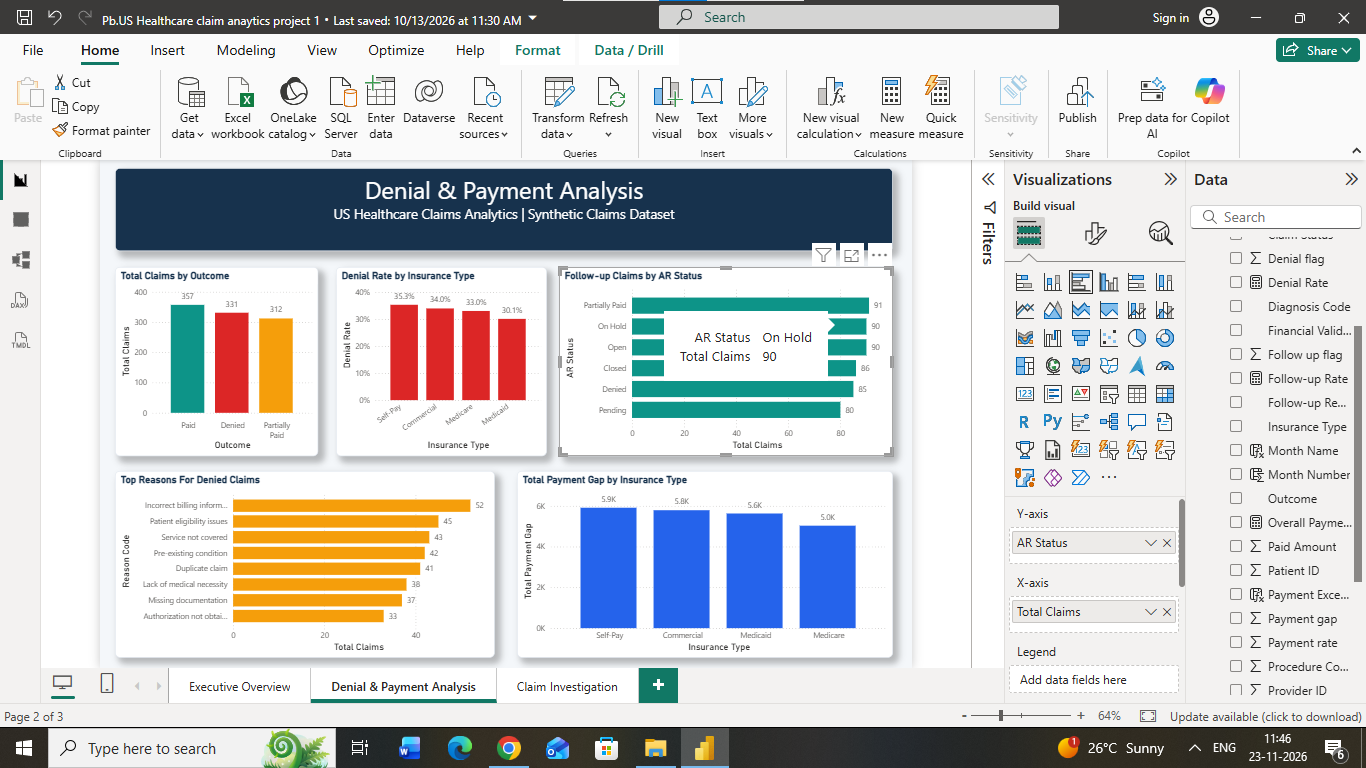

What the dashboard file says about the page in this screenshot:
{"tool":"powerbi","page":{"name":"Denial & Payment Analysis","canvas":[1280,800],"ordinal":1},"visuals":[{"type":"clusteredColumnChart","fields":{"Category":["claim_data.Outcome"],"Y":["claim_data.Total Claims"]},"box":[23.6,168.5,319.7,297.6],"z":0},{"type":"clusteredBarChart","title":"Top Reasons For Denied Claims","fields":{"Category":["claim_data.Reason Code"],"Y":["claim_data.Total Claims"]},"box":[23.6,489.8,598.4,294.5],"z":1000},{"type":"clusteredColumnChart","fields":{"Category":["claim_data.Insurance Type"],"Y":["claim_data.Denial Rate"]},"box":[371.7,168.5,332.3,297.6],"z":2000},{"type":"clusteredColumnChart","fields":{"Category":["claim_data.Insurance Type"],"Y":["claim_data.Total Payment Gap"]},"box":[656.7,489.8,592.1,294.5],"z":3000},{"type":"clusteredBarChart","title":"Follow-up Claims by AR Status","fields":{"Category":["claim_data.AR Status"],"Y":["claim_data.Total Claims"]},"box":[722.8,168.5,526,297.6],"z":4000},{"type":"textbox","box":[23.6,12.6,1225.2,130.7],"z":5000}]}

Visuals, with their boxes on the page's 1280x800 design canvas (x1, y1, x2, y2). These are canvas units, not pixel positions in the 1366x768 screenshot, which may show the page scaled, cropped or inside an application window:
clusteredColumnChart - claim_data.Outcome x claim_data.Total Claims: region(24, 168, 343, 466)
"Top Reasons For Denied Claims" clusteredBarChart: region(24, 490, 622, 784)
clusteredColumnChart - claim_data.Insurance Type x claim_data.Denial Rate: region(372, 168, 704, 466)
clusteredColumnChart - claim_data.Insurance Type x claim_data.Total Payment Gap: region(657, 490, 1249, 784)
"Follow-up Claims by AR Status" clusteredBarChart: region(723, 168, 1249, 466)
textbox: region(24, 13, 1249, 143)
